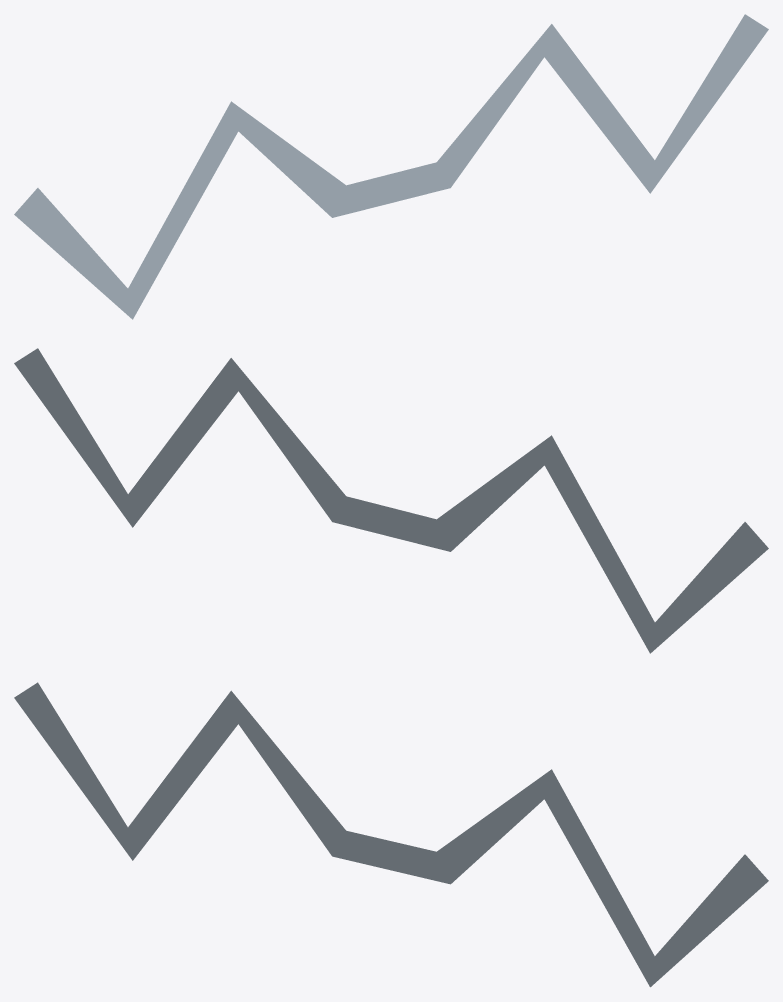
File: 2045_PotionThrow_Overall_GroundArc78.fbx
3 views of the same model, one above another, from view 1: azimuth 30°, elevation 25°; view 2: azimuth 150°, elevation 25°; view 3: azimuth 330°, elevation 25° (orthographic).
Parts seen in each view (by area): view 1: PART_GroundArc78; view 2: PART_GroundArc78; view 3: PART_GroundArc78.
Boxes of the visible parts, left/top/right/bottom form: PART_GroundArc78: left=14, top=14, right=768, bottom=319; PART_GroundArc78: left=14, top=348, right=768, bottom=653; PART_GroundArc78: left=14, top=682, right=768, bottom=987.
Bounding box in the file's own units: 72.29 × 17.83 × 2.91e-06.
